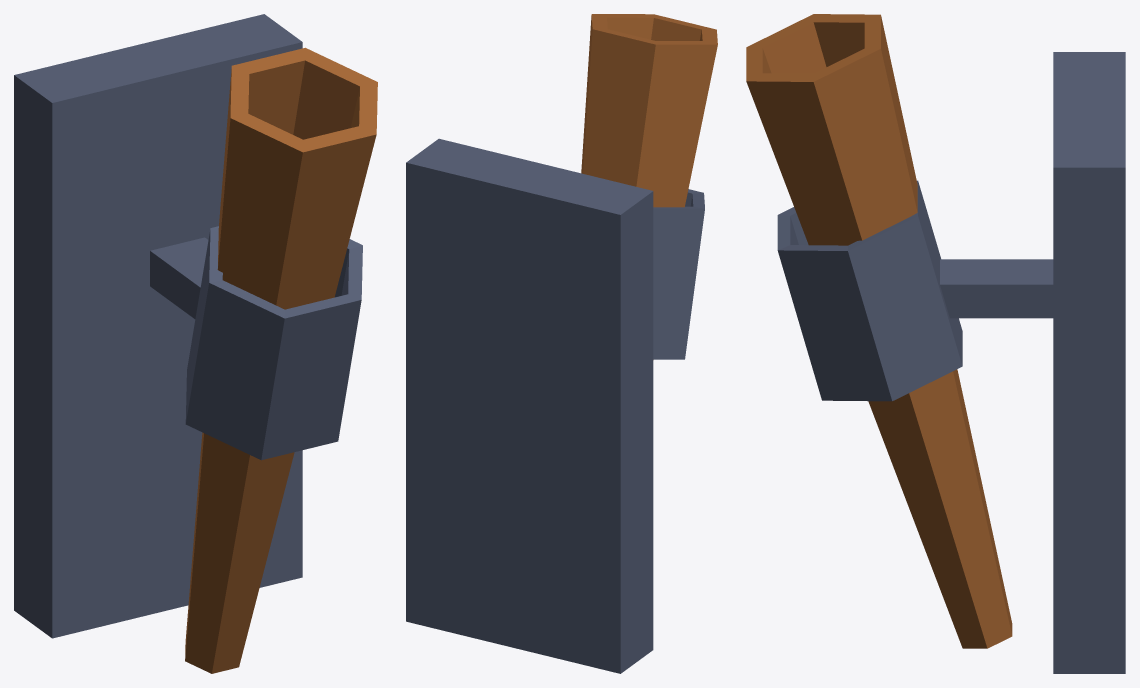
File: torch.glb
3 views of the same model, side by side, from view 1: azimuth 30°, elevation 25°; view 2: azimuth 150°, elevation 25°; view 3: azimuth 270°, elevation 25° (orthographic). The views are drawn at different scales.
Parts seen in each view (by area): view 1: torch; view 2: torch; view 3: torch.
Part boxes in pixels (x1,y1,x2,y2): torch: [14, 14, 377, 673]; torch: [406, 14, 717, 673]; torch: [746, 14, 1125, 673].
Bounding box in the file's own units: 0.2841 × 0.7 × 0.3943.
